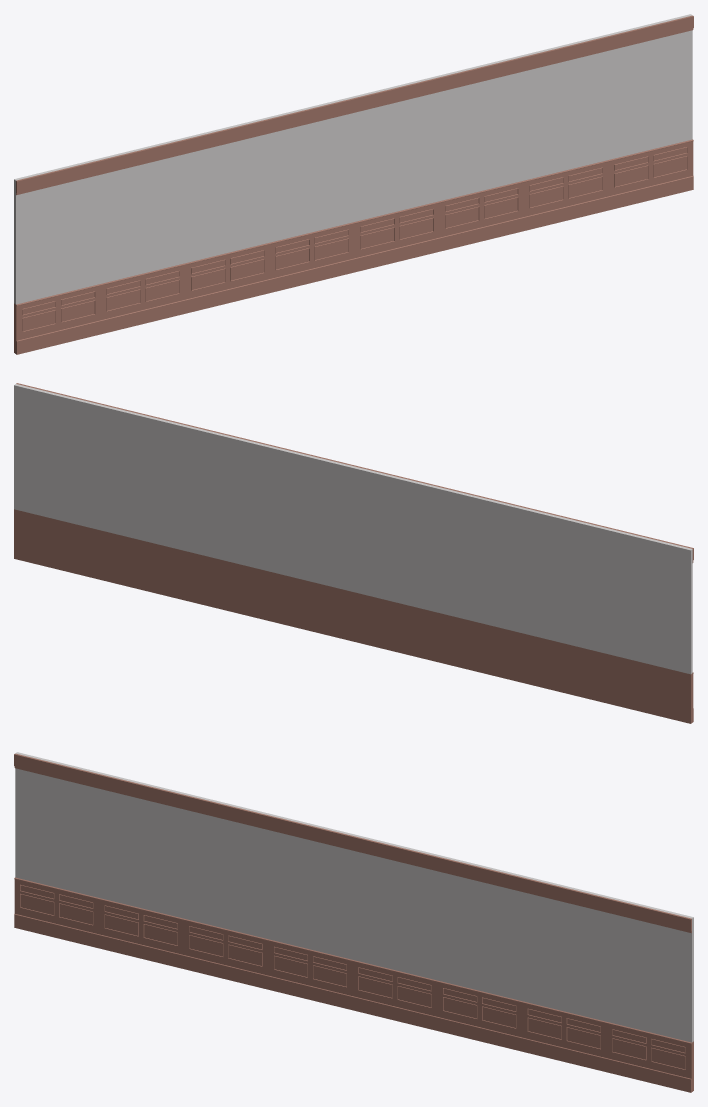
The model's file is 894_wall_with_waistwall.glb.
3 renders of one model, top to bottom at view 1: azimuth 30°, elevation 25°; view 2: azimuth 150°, elevation 25°; view 3: azimuth 330°, elevation 25°, orthographic.
Parts seen in each view (by area): view 1: 西壁 (1); view 2: 西壁 (1); view 3: 西壁 (1).
Part boxes in pixels (bbox=[...]): 西壁 (1): bbox=[14, 14, 693, 354]; 西壁 (1): bbox=[14, 383, 693, 723]; 西壁 (1): bbox=[14, 752, 693, 1092].
Bounding box in the file's own units: 20 × 4.9 × 0.16.
